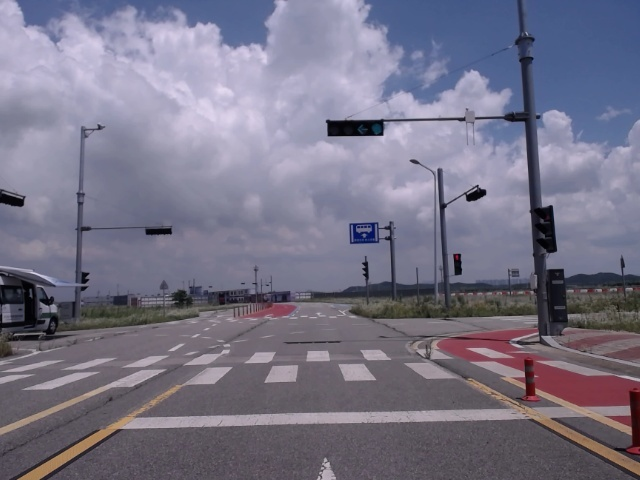all_green_4: (330, 120, 383, 141)
